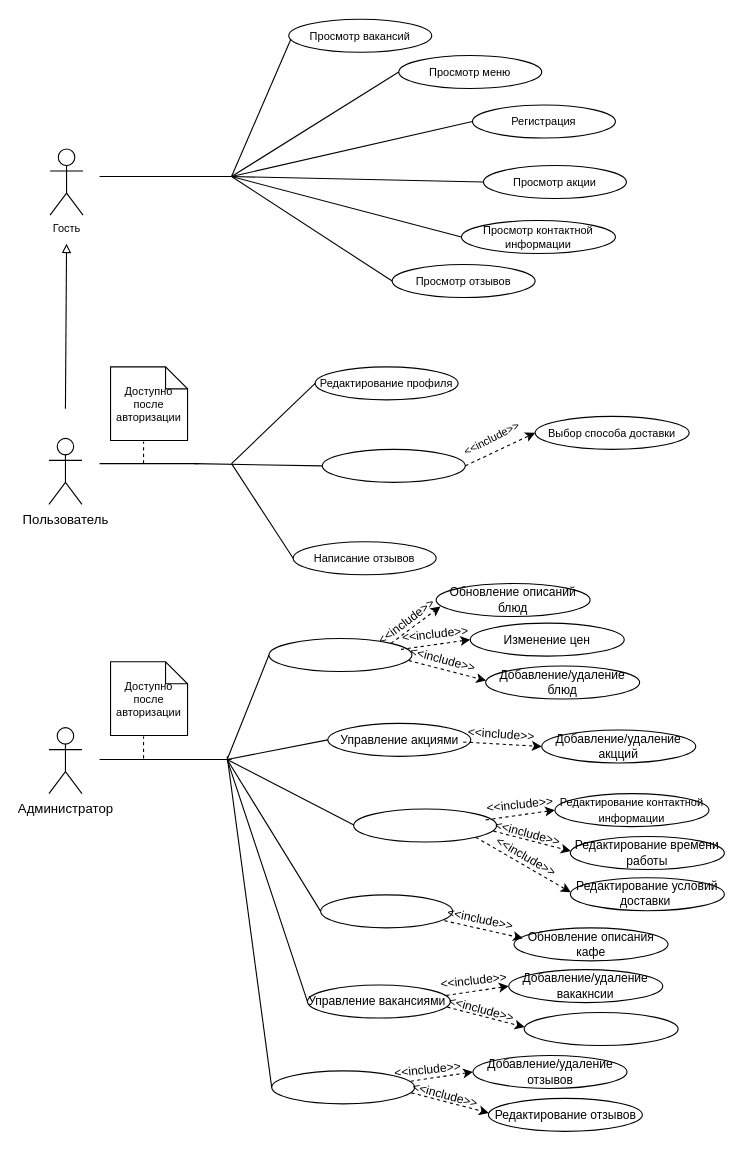
Some shapes in this 744 by 1151 pixel diagram are drawn without their labels. The shapes that lost their labels are listed below. From the top down, each one's centre as x and y in pixels, then its label:
At (393,465): "Оформление заказа".
At (340,654): "Управление меню".
At (425,825): "Управление разделом «Доставка»".
At (386,911): "Управление главной страницей".
At (600,1028): "Обновление описаний вакансии условий".
At (343,1087): "Управление отзывами о блюдах".
